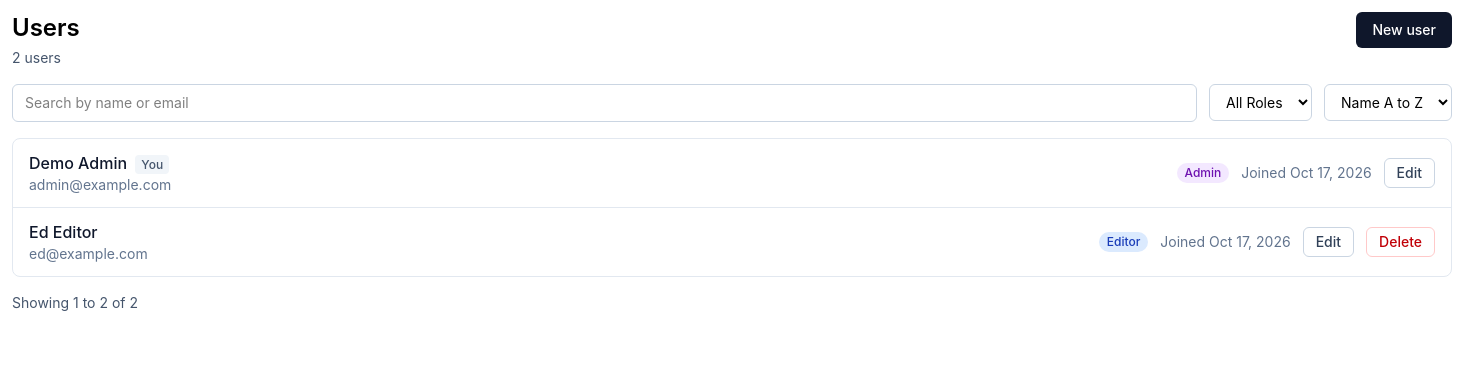
it: UsersView › shows the server message when a delete is rejected
Click the button with aria-label "Delete Ed Editor" at (1401, 242), box [1366,227,1435,257]
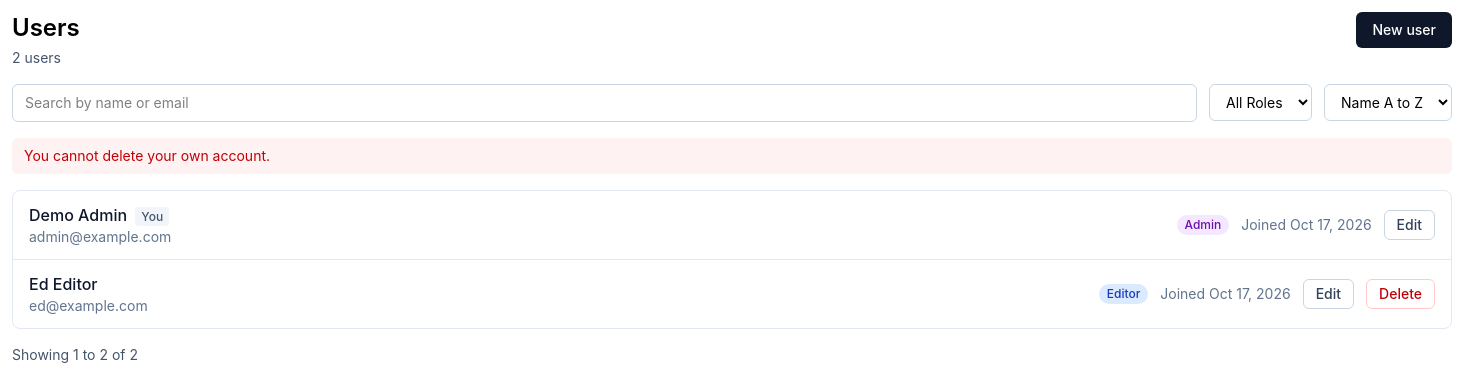
Expected: the message "You cannot delete your own account." is shown, [12,138,1452,174]
